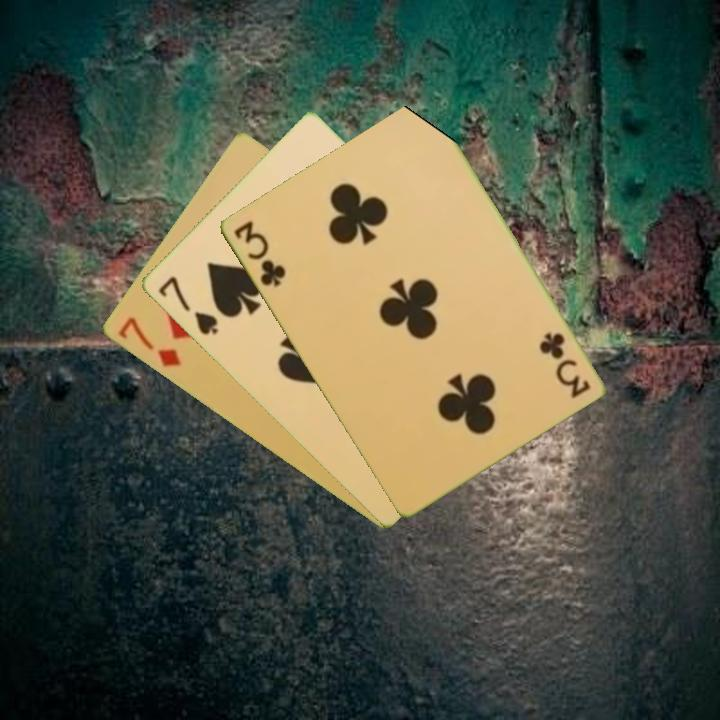3c: (229, 217, 288, 289), (537, 328, 593, 400)
7d: (114, 313, 183, 370)
7s: (154, 272, 221, 338)
